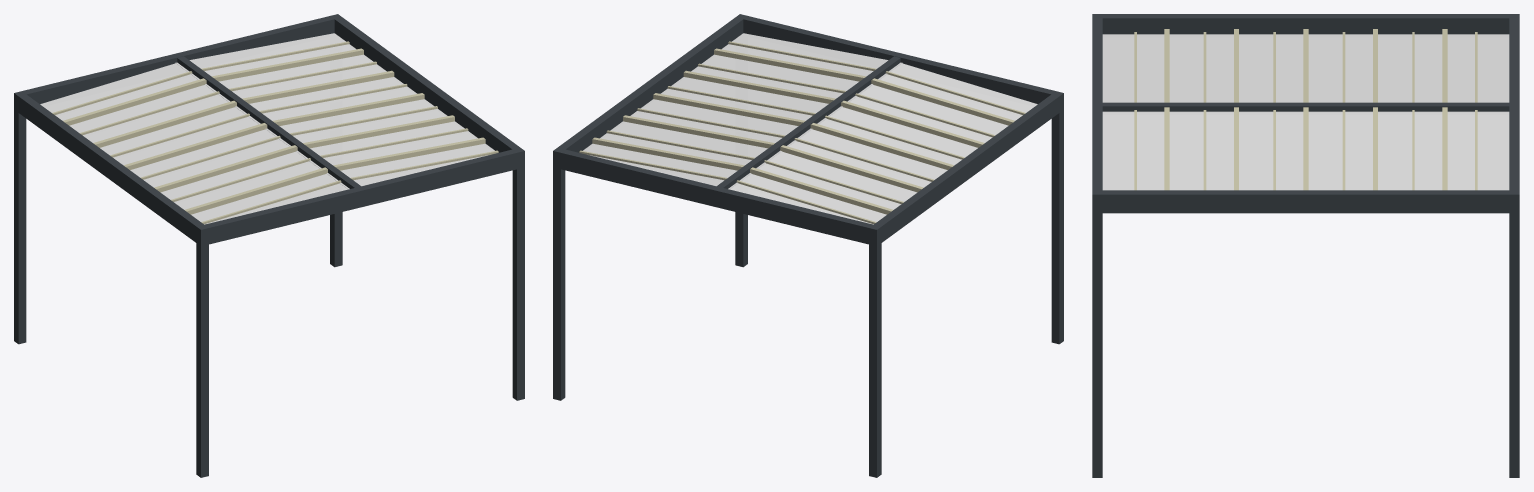
File: hyr-double_h30-w40-l40_matdarkgrey.fbx
3 views of the same model, side by side, from view 1: azimuth 30°, elevation 25°; view 2: azimuth 150°, elevation 25°; view 3: azimuth 270°, elevation 25° (orthographic). The views are drawn at different scales.
Visible parts, largest first — view 1: hyr-double_h30-w40-l40_mat-d-grey; view 2: hyr-double_h30-w40-l40_mat-d-grey; view 3: hyr-double_h30-w40-l40_mat-d-grey.
Part boxes in pixels (x1,y1,x2,y2): hyr-double_h30-w40-l40_mat-d-grey: [14, 14, 524, 477]; hyr-double_h30-w40-l40_mat-d-grey: [553, 14, 1063, 477]; hyr-double_h30-w40-l40_mat-d-grey: [1092, 14, 1519, 477].
Bounding box in the file's own units: 410 × 300 × 410.
Materials: 3 (2 with a texture image).
